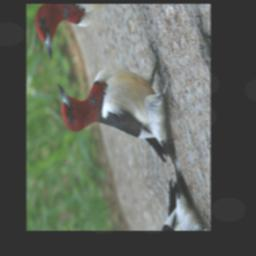Woodpecker: (51, 22, 193, 217)
